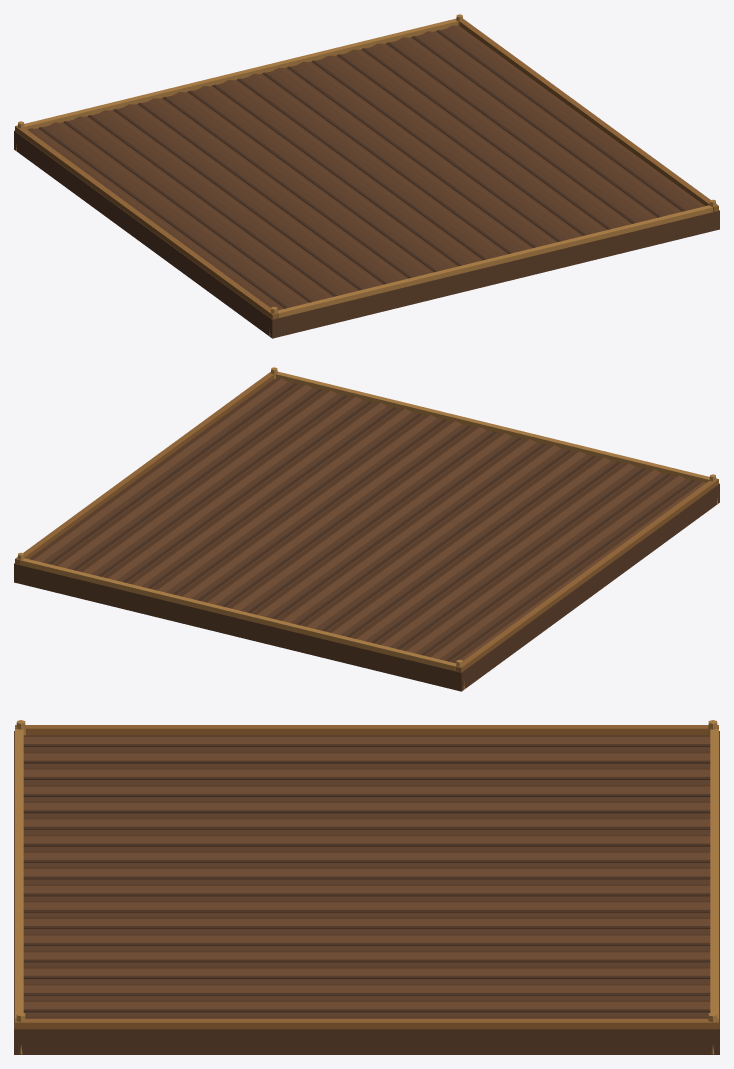
File: farm-large-bed.gltf
3 views of the same model, one above another, from view 1: azimuth 30°, elevation 25°; view 2: azimuth 150°, elevation 25°; view 3: azimuth 270°, elevation 25° (orthographic). The views are drawn at different scales.
Visible parts, largest first — view 1: farm-large-bed; view 2: farm-large-bed; view 3: farm-large-bed.
Part boxes in pixels (x1=…): farm-large-bed: x1=14, y1=14, x2=719, y2=338; farm-large-bed: x1=14, y1=367, x2=719, y2=691; farm-large-bed: x1=14, y1=720, x2=719, y2=1054.
Size of the model in its own units: 4.01 by 0.235 by 4.
